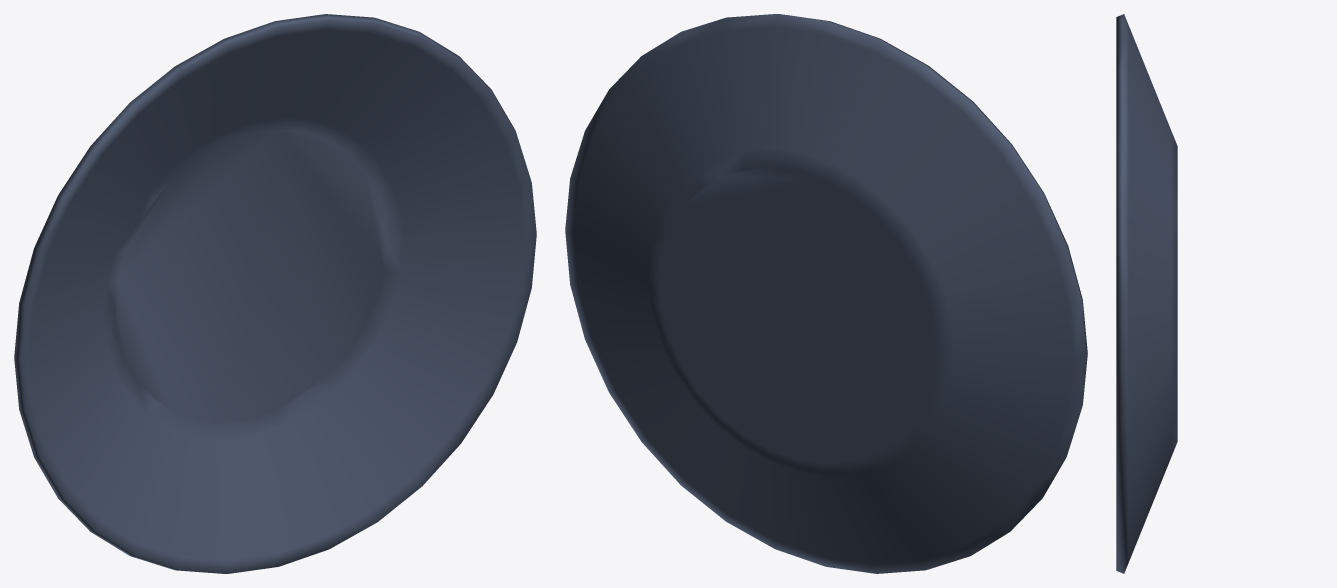
Rendered from BodymeshMicrowaveC2_0_GeomSubset_3.obj.
3 renders of one model, left to right at view 1: azimuth 30°, elevation 25°; view 2: azimuth 150°, elevation 25°; view 3: azimuth 270°, elevation 25°, orthographic. The views are drawn at different scales.
Parts seen in each view (by area): view 1: BodymeshMicrowaveC2_0_GeomSubset_3; view 2: BodymeshMicrowaveC2_0_GeomSubset_3; view 3: BodymeshMicrowaveC2_0_GeomSubset_3.
Part boxes in pixels (bbox=[...]): BodymeshMicrowaveC2_0_GeomSubset_3: bbox=[14, 14, 536, 573]; BodymeshMicrowaveC2_0_GeomSubset_3: bbox=[565, 14, 1087, 573]; BodymeshMicrowaveC2_0_GeomSubset_3: bbox=[1116, 14, 1177, 573].
Bounding box in the file's own units: 0.2626 × 0.2626 × 0.0967.
